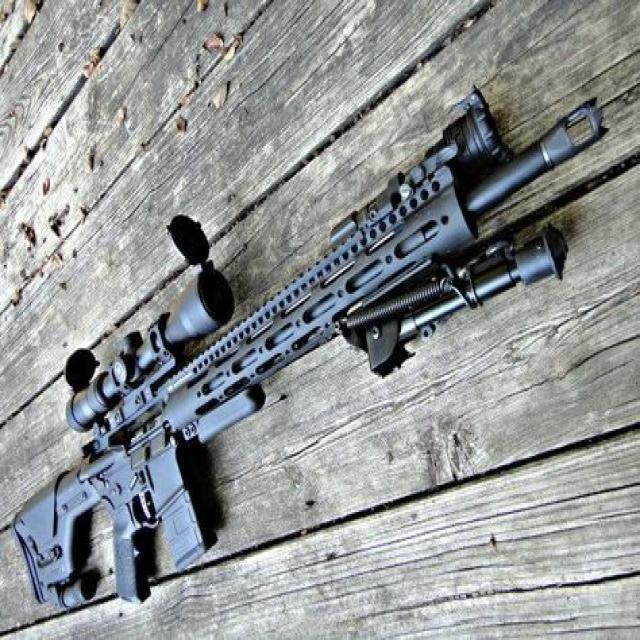Rifle: (14, 90, 608, 606)
